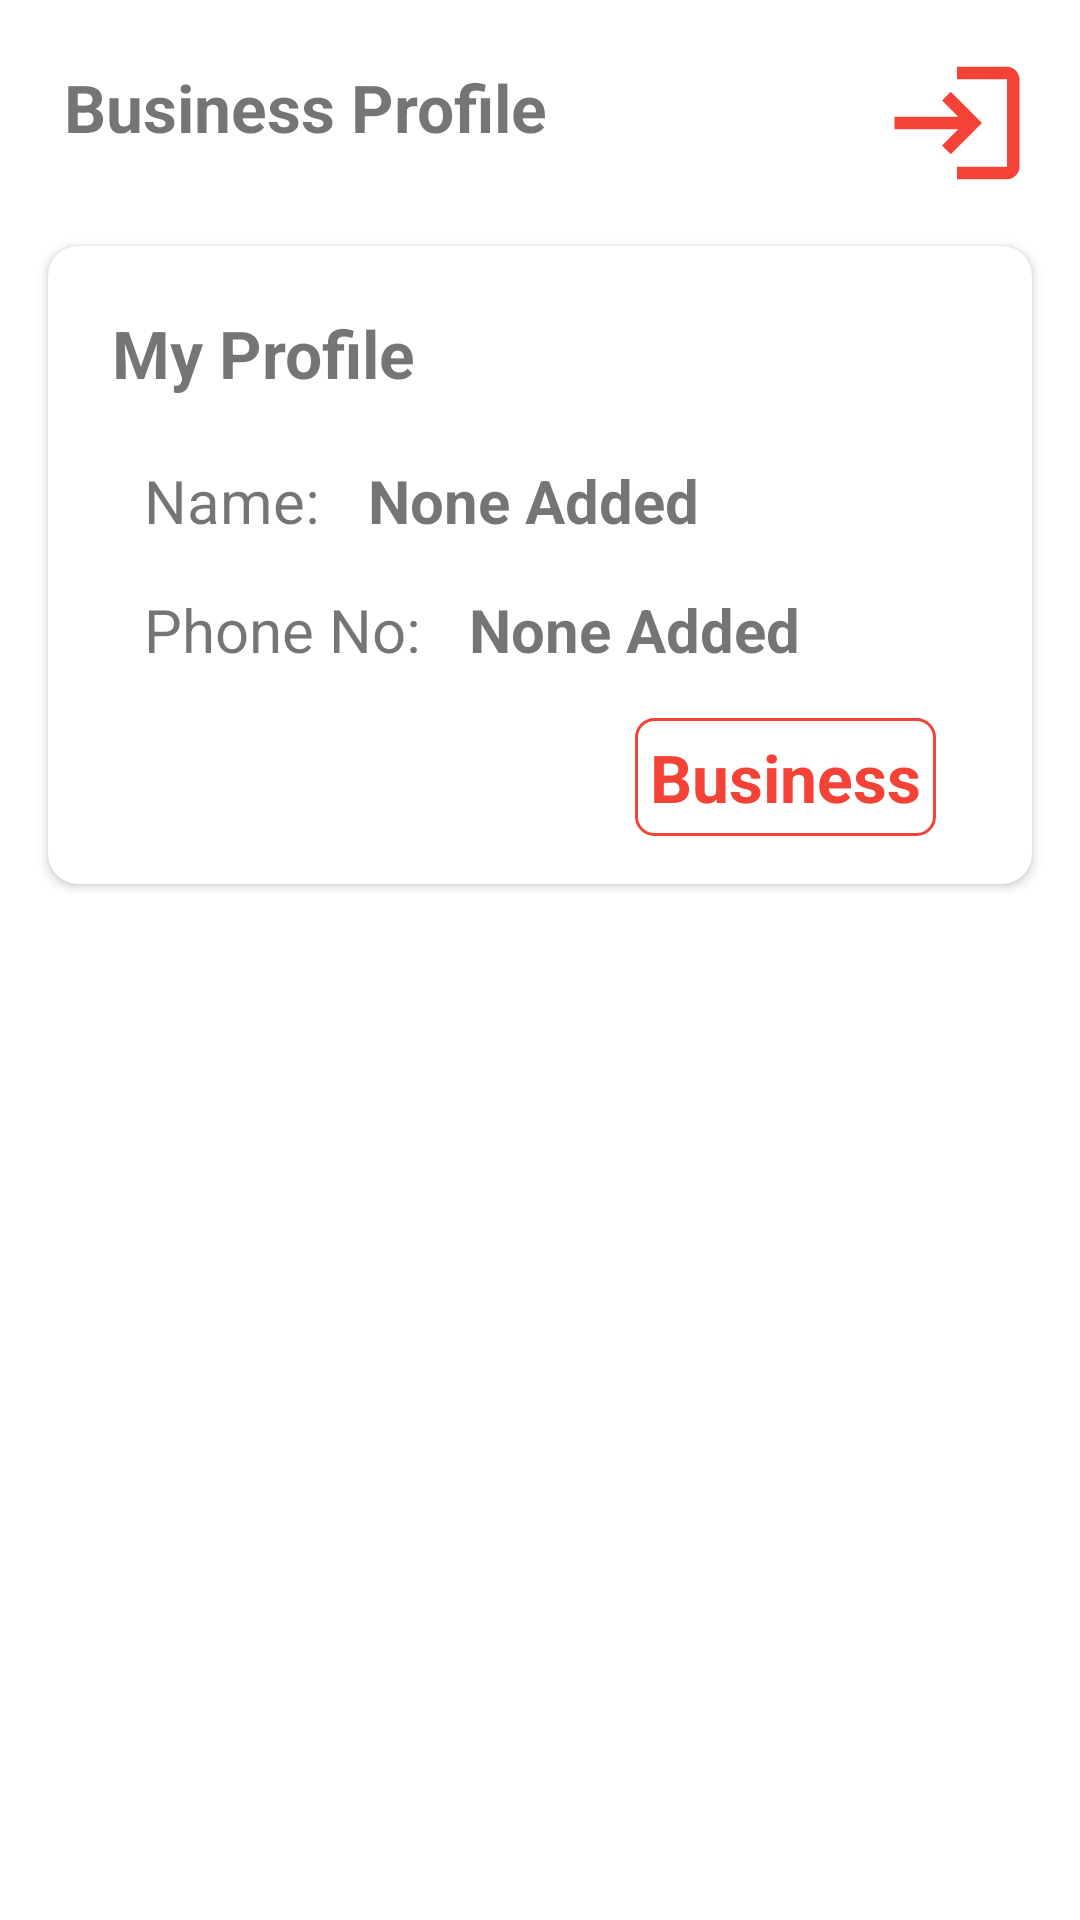

Named icons in this screenshot (1080 × 1920) and their bounding boxes, {"x1": x1, "y1": y1, "x2": x2, "y2": y2}:
login: {"x1": 894, "y1": 66, "x2": 1020, "y2": 180}
